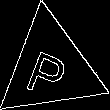P_N: (25, 37, 76, 98)
